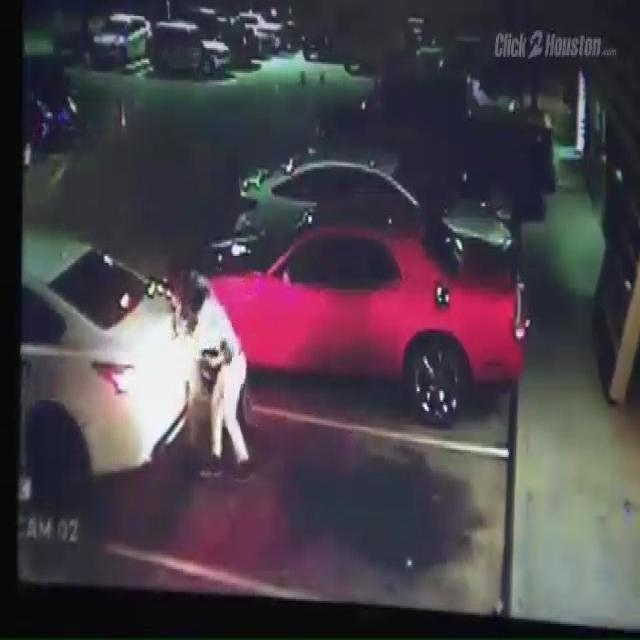fight: (169, 248, 268, 516)
